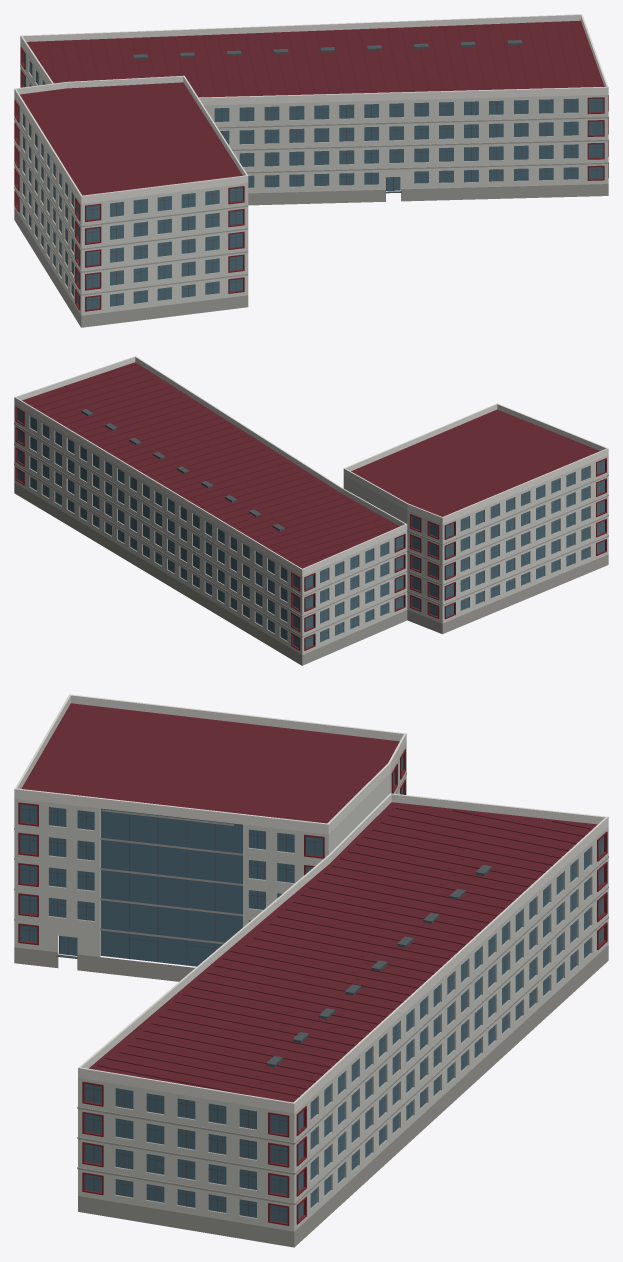
3 views of the same model, one above another, from view 1: azimuth 30°, elevation 25°; view 2: azimuth 150°, elevation 25°; view 3: azimuth 270°, elevation 25° (orthographic). The views are drawn at different scales.
Visible parts, largest first — view 1: academic__roof-metal-maroon, academic__wall-plaster-tile, academic__glass, academic__base-stone, academic__parapet-concrete, academic__frame, academic__trim-maroon; view 2: academic__roof-metal-maroon, academic__wall-plaster-tile, academic__glass, academic__base-stone, academic__parapet-concrete, academic__trim-maroon, academic__frame; view 3: academic__roof-metal-maroon, academic__wall-plaster-tile, academic__glass, academic__base-stone, academic__parapet-concrete, academic__frame, academic__trim-maroon.
Part boxes in pixels (box(x1,y1,x2,y2)): academic__roof-metal-maroon: box(20, 20, 604, 195); academic__wall-plaster-tile: box(14, 43, 608, 315); academic__glass: box(17, 52, 603, 309); academic__base-stone: box(14, 58, 608, 327); academic__parapet-concrete: box(14, 14, 608, 203); academic__frame: box(16, 40, 602, 308); academic__trim-maroon: box(14, 47, 608, 311); academic__roof-metal-maroon: box(22, 362, 599, 568); academic__wall-plaster-tile: box(14, 404, 608, 655); academic__glass: box(17, 409, 604, 648); academic__base-stone: box(14, 415, 608, 665); academic__parapet-concrete: box(14, 356, 608, 575); academic__trim-maroon: box(15, 407, 606, 650); academic__frame: box(18, 409, 604, 646); academic__roof-metal-maroon: box(21, 703, 597, 1102); academic__wall-plaster-tile: box(14, 743, 608, 1231); academic__glass: box(20, 757, 603, 1222); academic__base-stone: box(14, 772, 608, 1247); academic__parapet-concrete: box(14, 694, 608, 1113); academic__frame: box(20, 756, 604, 1221); academic__trim-maroon: box(18, 749, 607, 1225).
Size of the model in its own units: 105 by 22.45 by 69.51.
